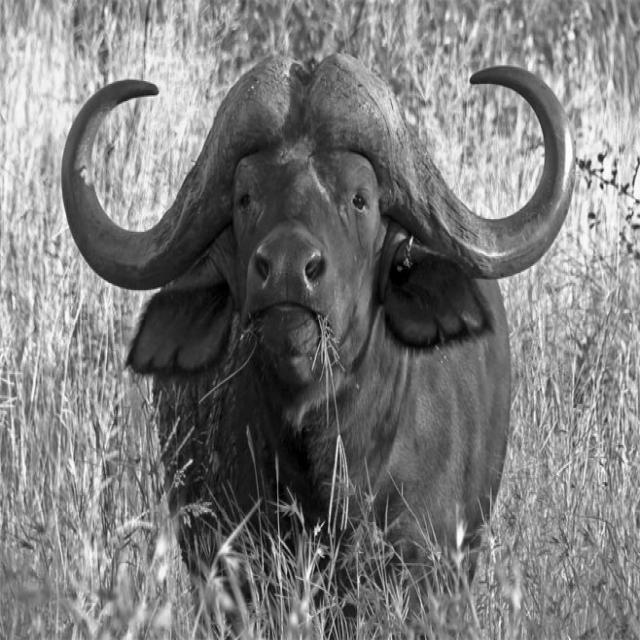Buffalo: (62, 54, 578, 630)
